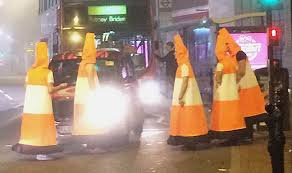cones: (10, 43, 64, 157), (202, 35, 252, 146), (164, 34, 210, 147), (221, 28, 269, 123), (70, 29, 109, 143)
